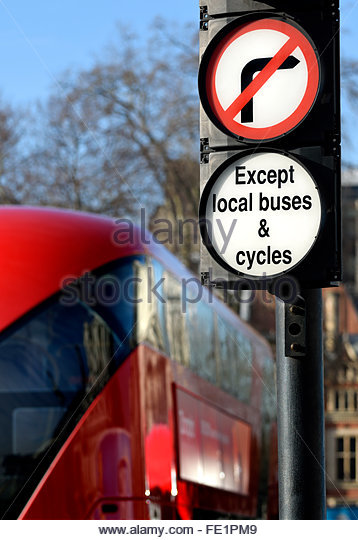No_right_turn: (204, 18, 319, 140)
